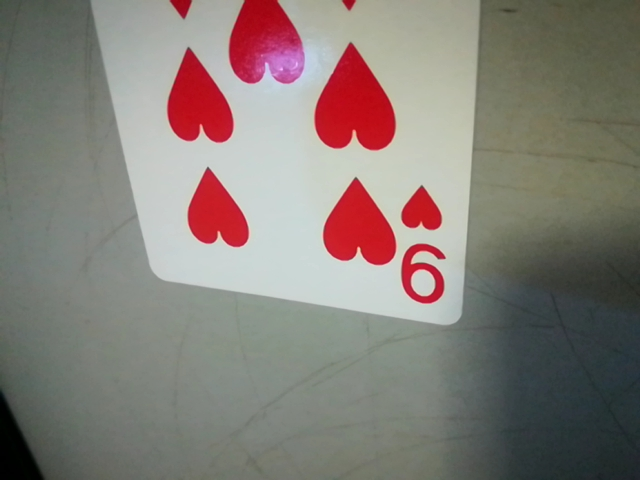hx 9: (390, 180, 463, 314)
